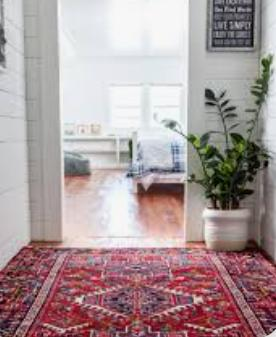carpet: (1, 246, 276, 337)
